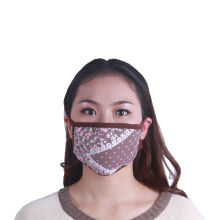face_mask: (70, 74, 142, 174)
